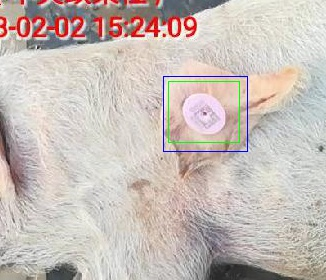text: (168, 81, 239, 142)
